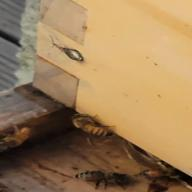Bee: (60, 115, 130, 137)
